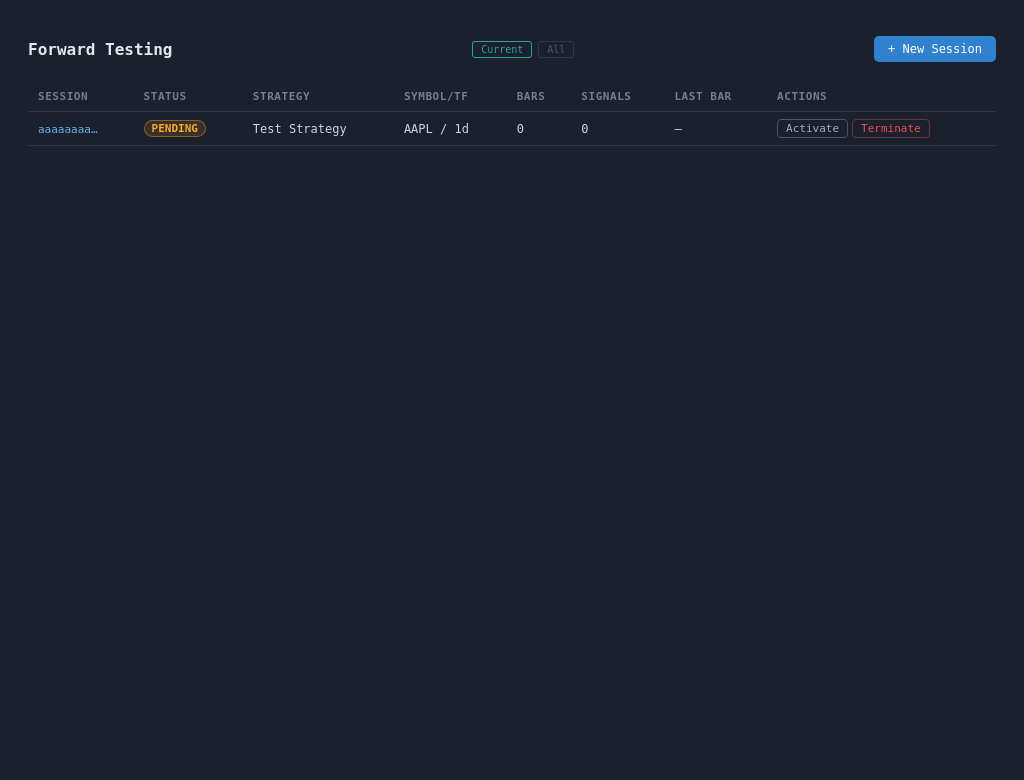
Test: ForwardTestPanel — signal view › shows actionable no-signal explanation when no signals and session is pending
This screenshot has width=1024, height=780.
Click the button "aaaaaaaa…" at (68, 129), box [38, 122, 98, 136]
(page scrolled)
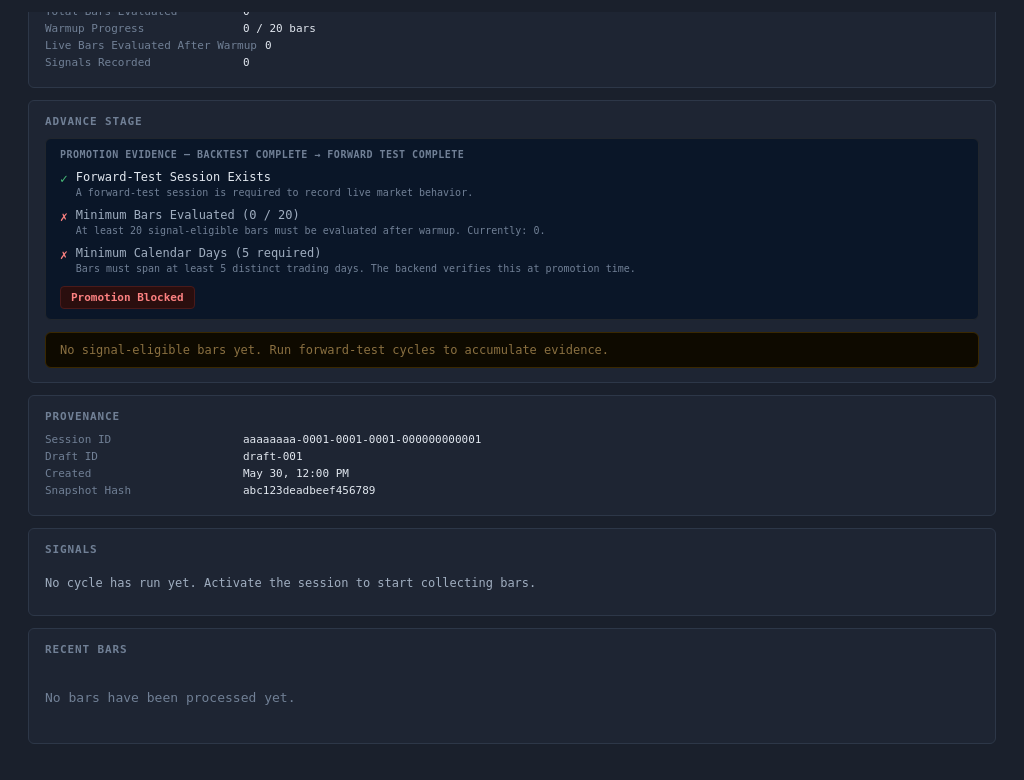
Result: the text "No cycle has run yet" is shown at [45, 576, 536, 590]
